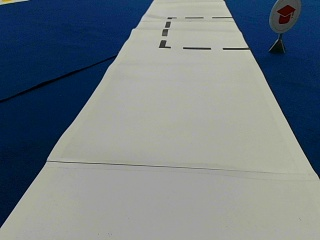school: (268, 1, 300, 32)
